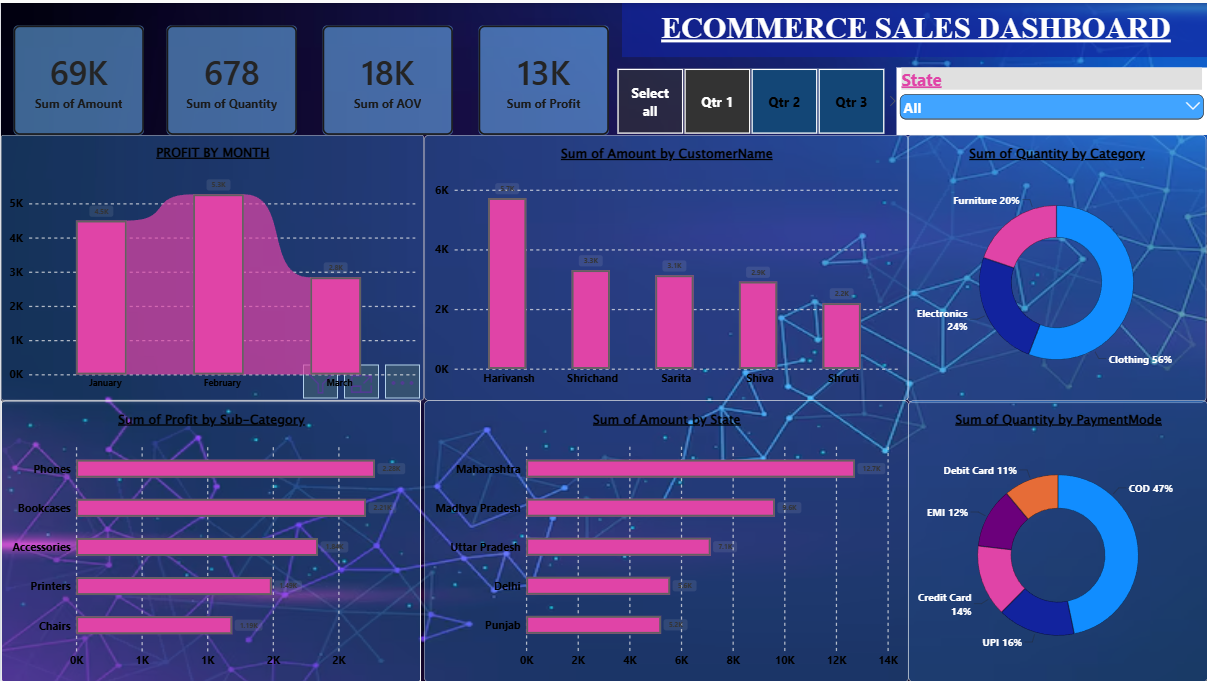

What the dashboard file says about the page in this screenshot:
{"tool":"powerbi","page":{"name":"Page 1","canvas":[1920,1080],"ordinal":0},"visuals":[{"type":"textbox","box":[987.8,0,935.3,85.9],"z":0},{"type":"barChart","fields":{"Category":["Details.Sub-Category"],"Y":["Sum(Details.Profit)"]},"box":[0,632.3,668.1,448.6],"z":1000},{"type":"donutChart","fields":{"Category":["Details.Category"],"Y":["Sum(Details.Quantity)"]},"box":[1440,209.8,476.2,425.2],"z":2000},{"type":"donutChart","fields":{"Category":["Details.PaymentMode"],"Y":["Sum(Details.Quantity)"]},"box":[1442.8,632.1,476.2,447.9],"z":3000},{"type":"cardVisual","fields":{"Data":["Sum(Details.Amount)"]},"box":[0,35.8,247,174.2],"z":4000},{"type":"cardVisual","fields":{"Data":["Sum(Details.Quantity)"]},"box":[243.4,35.8,247,174.2],"z":5000},{"type":"cardVisual","fields":{"Data":["Sum(Details.AOV)"]},"box":[491.5,35.8,247,174.2],"z":6000},{"type":"cardVisual","fields":{"Data":["Sum(Details.Profit)"]},"box":[739.6,35.8,247,174.2],"z":7000},{"type":"barChart","fields":{"Category":["Orders.State"],"Y":["Sum(Details.Amount)"]},"box":[671.8,632.1,771,447.9],"z":8000},{"type":"columnChart","fields":{"Category":["Orders.CustomerName"],"Y":["Sum(Details.Amount)"]},"box":[671.8,209.8,771,422.4],"z":9000},{"type":"columnChart","title":"PROFIT BY MONTH","fields":{"Category":["Orders.Order Date.Variation.Date Hierarchy.Month"],"Y":["Sum(Details.Profit)"]},"box":[0,210,672.8,422.3],"z":10000},{"type":"slicer","fields":{"Values":["Orders.Order Date.Variation.Date Hierarchy.Quarter"]},"box":[959.1,102.6,465.3,107.4],"z":11000},{"type":"slicer","fields":{"Values":["Orders.State"]},"box":[1424.4,102.6,493.9,107.4],"z":12000}]}

Visuals, with their boxes in screenshot pixels (x1, y1, x2, y2), scaled from the page's 1920x1080 canvas onto the 1207x681 screenshot:
textbox: [x1=621, y1=0, x2=1206, y2=54]
barChart - Details.Sub-Category x Sum(Details.Profit): [x1=0, y1=399, x2=420, y2=680]
donutChart - Details.Category x Sum(Details.Quantity): [x1=905, y1=132, x2=1205, y2=400]
donutChart - Details.PaymentMode x Sum(Details.Quantity): [x1=907, y1=399, x2=1206, y2=680]
cardVisual - Sum(Details.Amount): [x1=0, y1=23, x2=155, y2=132]
cardVisual - Sum(Details.Quantity): [x1=153, y1=23, x2=308, y2=132]
cardVisual - Sum(Details.AOV): [x1=309, y1=23, x2=464, y2=132]
cardVisual - Sum(Details.Profit): [x1=465, y1=23, x2=620, y2=132]
barChart - Orders.State x Sum(Details.Amount): [x1=422, y1=399, x2=907, y2=680]
columnChart - Orders.CustomerName x Sum(Details.Amount): [x1=422, y1=132, x2=907, y2=399]
"PROFIT BY MONTH" columnChart: [x1=0, y1=132, x2=423, y2=399]
slicer - Orders.Order Date.Variation.Date Hierarchy.Quarter: [x1=603, y1=65, x2=895, y2=132]
slicer - Orders.State: [x1=895, y1=65, x2=1206, y2=132]
